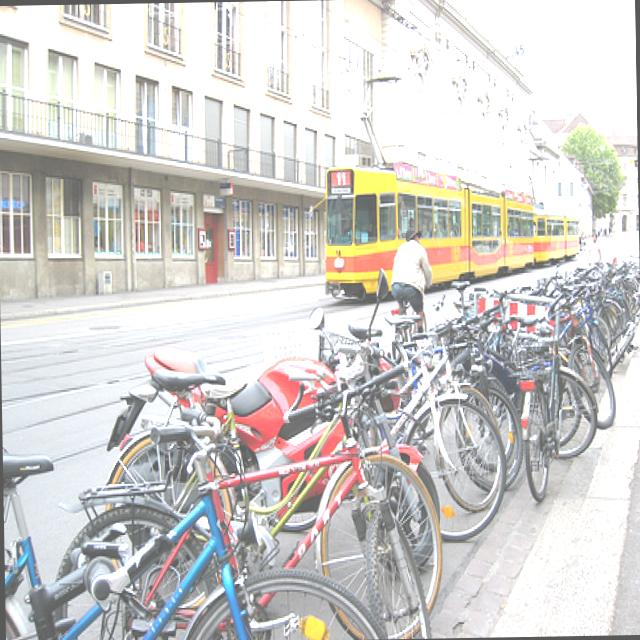Vehicle: (144, 270, 446, 578), (306, 160, 537, 300), (533, 207, 581, 265), (611, 242, 639, 266), (597, 225, 611, 236)
